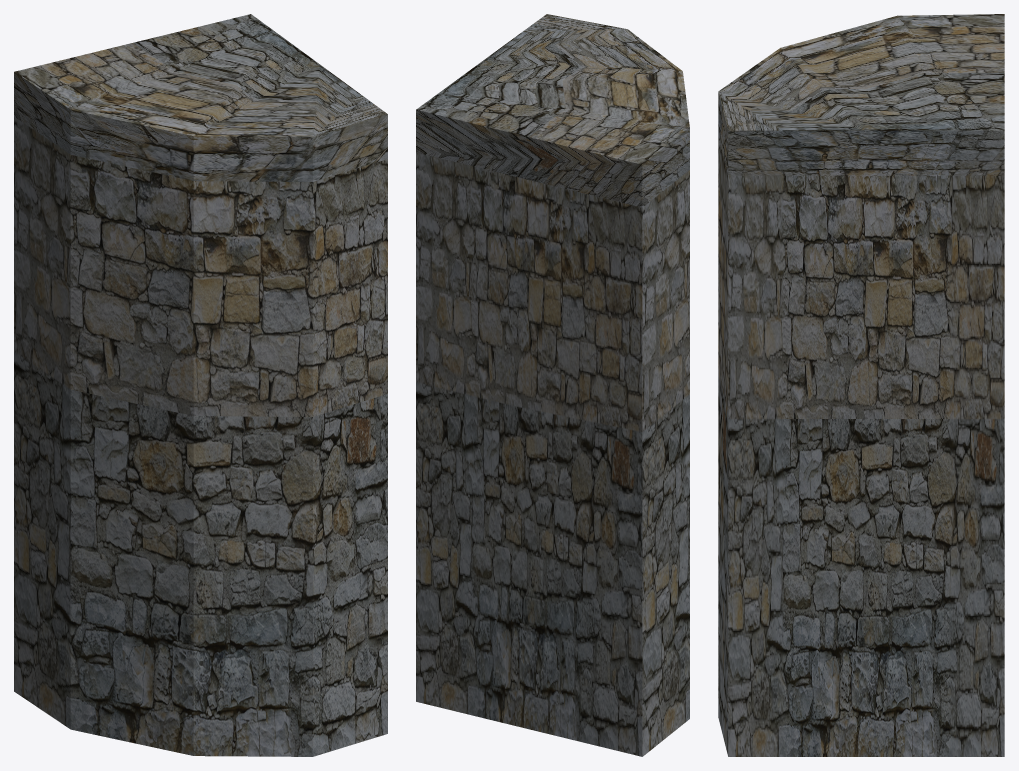
Rendered from foundationroundcorner.glb.
3 renders of one model, left to right at view 1: azimuth 30°, elevation 25°; view 2: azimuth 150°, elevation 25°; view 3: azimuth 270°, elevation 25°, orthographic. The views are drawn at different scales.
Parts seen in each view (by area): view 1: Cube; view 2: Cube; view 3: Cube.
Part boxes in pixels (<box>): Cube: <box>14,14,387,756</box>; Cube: <box>416,14,689,756</box>; Cube: <box>718,14,1004,756</box>.
Bounding box in the file's own units: 2 × 5 × 2.07.
Materials: 1 (1 with a texture image).
